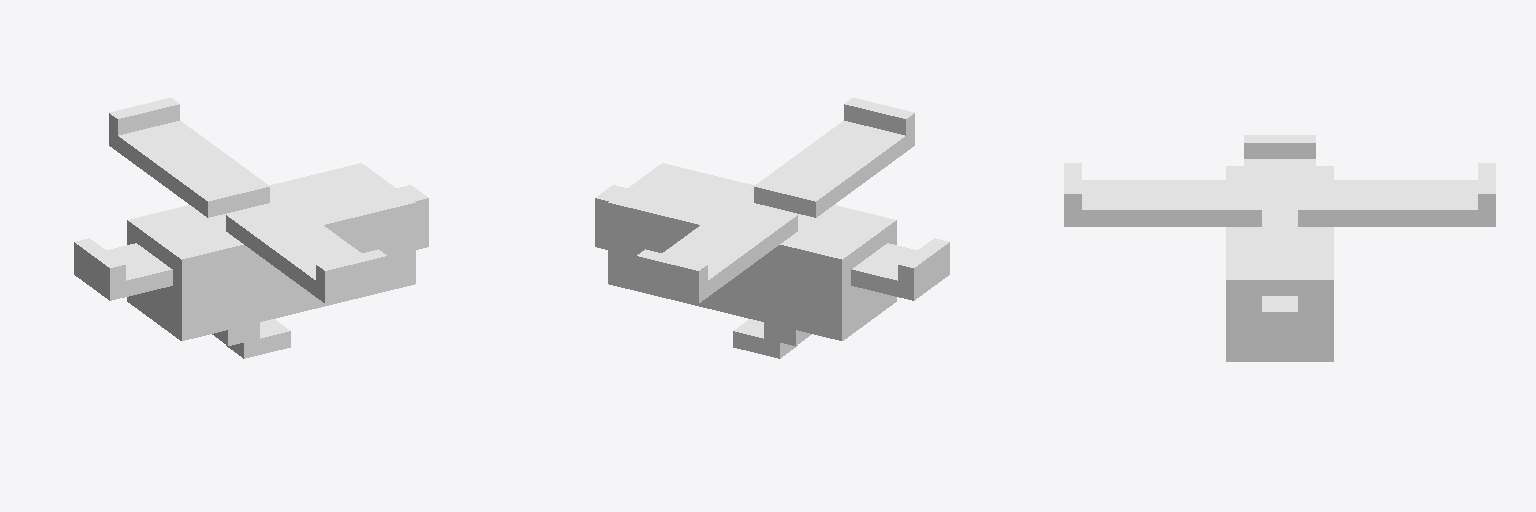
The model's file is eagle.obj.
The picture shows the model from 3 angles: view 1: azimuth 30°, elevation 25°; view 2: azimuth 150°, elevation 25°; view 3: azimuth 270°, elevation 25°; orthographic projection.
Visible parts, largest first — view 1: object 1; view 2: object 1; view 3: object 1.
Boxes of the visible parts, x1,y1,x2,y2 form: object 1: [74, 98, 428, 358]; object 1: [595, 98, 949, 358]; object 1: [1064, 135, 1495, 361].
Bounding box in the file's own units: 2.1 × 0.9 × 2.4.